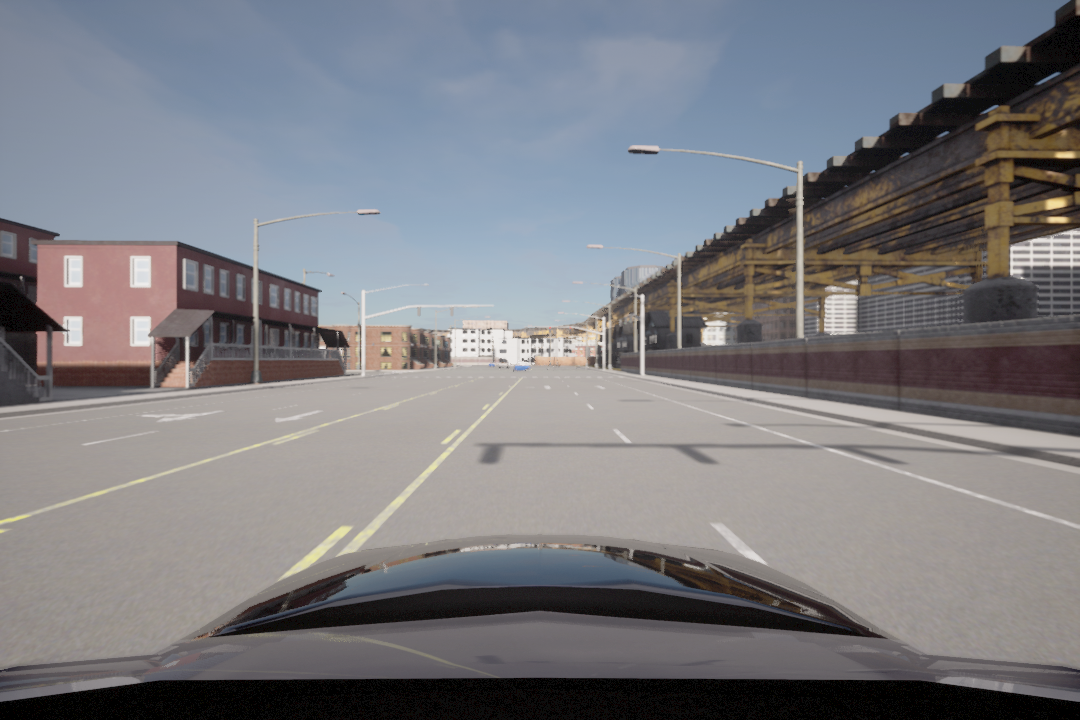RoadSign_forward: (268, 408, 327, 424)
RoadSign_forward_right: (134, 407, 227, 430)
